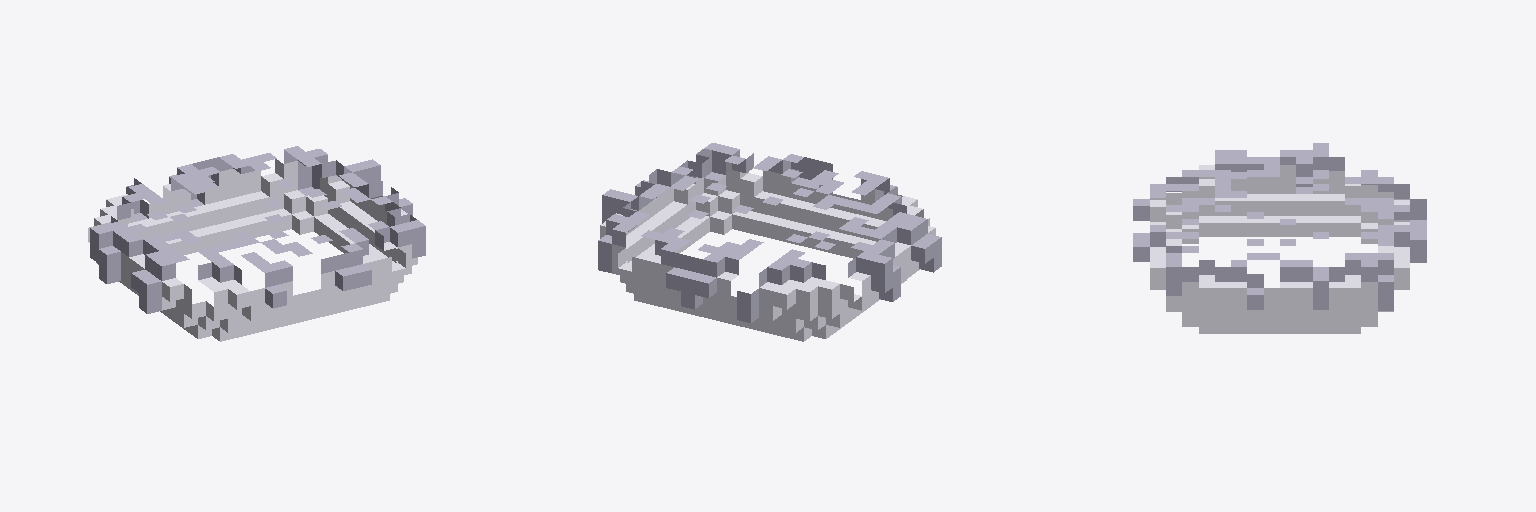
3 renders of one model, left to right at view 1: azimuth 30°, elevation 25°; view 2: azimuth 150°, elevation 25°; view 3: azimuth 270°, elevation 25°, orthographic.
Parts seen in each view (by area): view 1: object 1; view 2: object 1; view 3: object 1.
Boxes of the visible parts, box(x1,y1,x2,y2) form: object 1: box(88, 146, 425, 341); object 1: box(598, 143, 941, 341); object 1: box(1133, 143, 1426, 333).
Bounding box in the file's own units: 2 × 0.8 × 2.
1 materials, 1 textured.